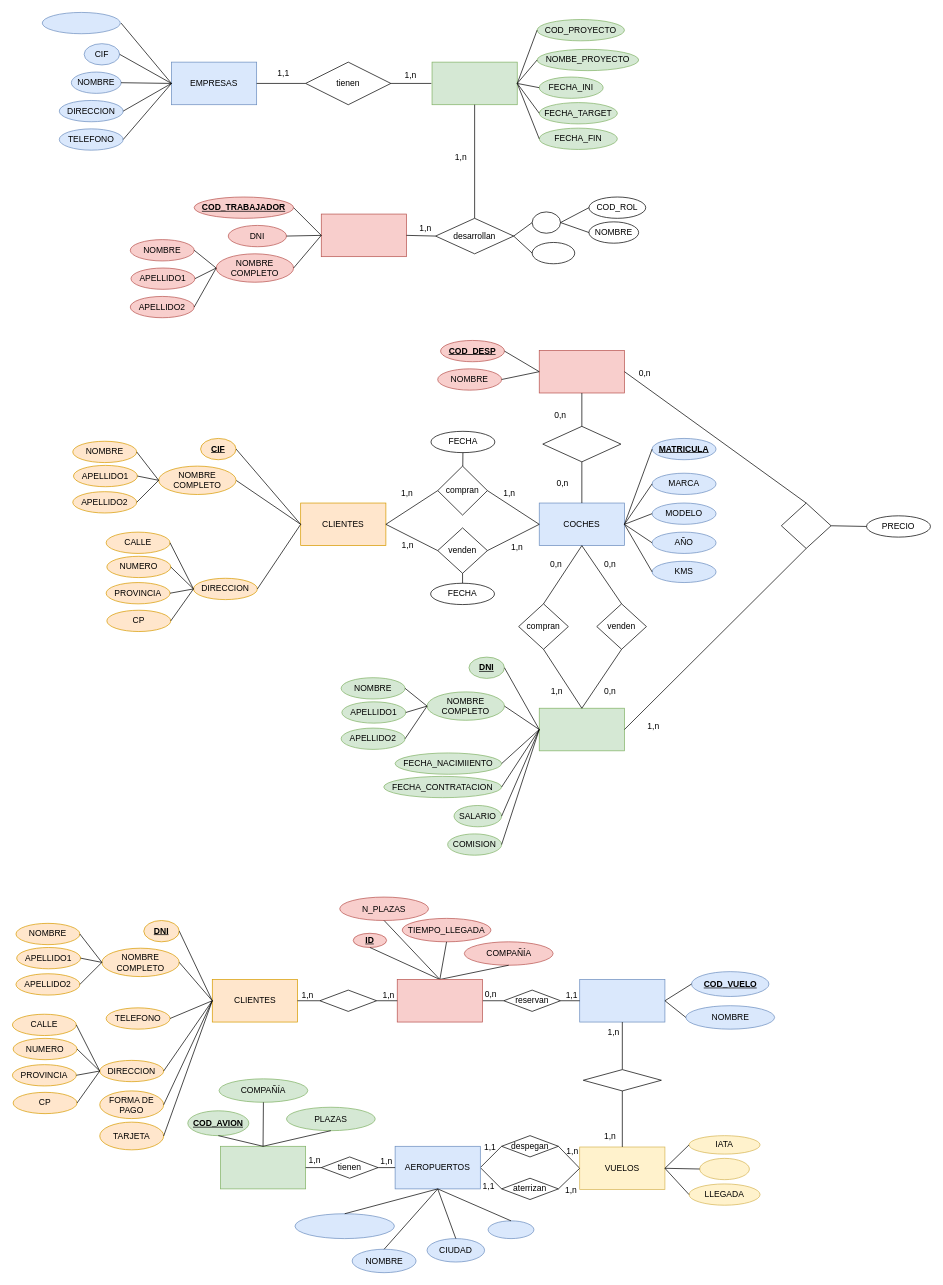
Some shapes in this 943 by 1285 pixel diagram are drawn without their labels. The box of each missing label's shape, as (x1, y1, x2, y2) in pixels:
AVIONES: (220, 1146, 306, 1189)
COD_AEROPUERTO: (294, 1213, 394, 1239)
COD_EMPRESA: (42, 12, 120, 34)
contienen: (583, 1069, 661, 1091)
DESPERFECTOS: (539, 350, 624, 393)
EMPLEADOS: (539, 708, 624, 751)
HORAS: (531, 242, 575, 264)
PAIS: (487, 1220, 534, 1239)
PROYECTOS: (431, 61, 517, 105)
realizan: (319, 989, 377, 1011)
reparan: (781, 502, 831, 548)
RESERVAS: (397, 979, 482, 1022)
ROL: (531, 211, 561, 233)
SALIDA: (699, 1158, 749, 1180)
tiene: (542, 426, 621, 462)
TRABAJADORES: (321, 213, 406, 257)
VIAJES: (579, 979, 665, 1022)
